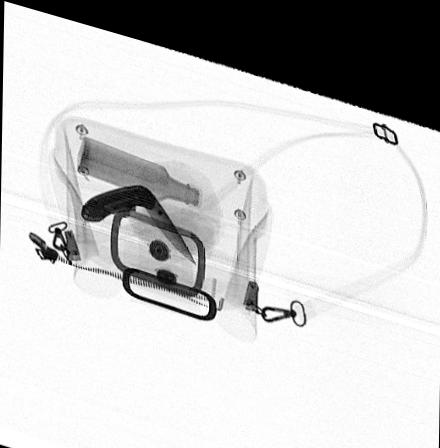Knife: (78, 174, 199, 258)
